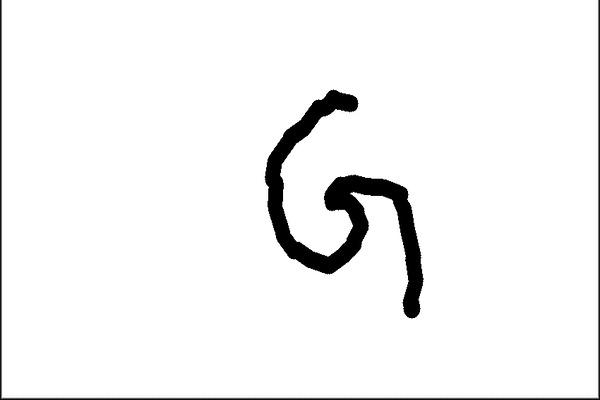G: (259, 84, 429, 321)
